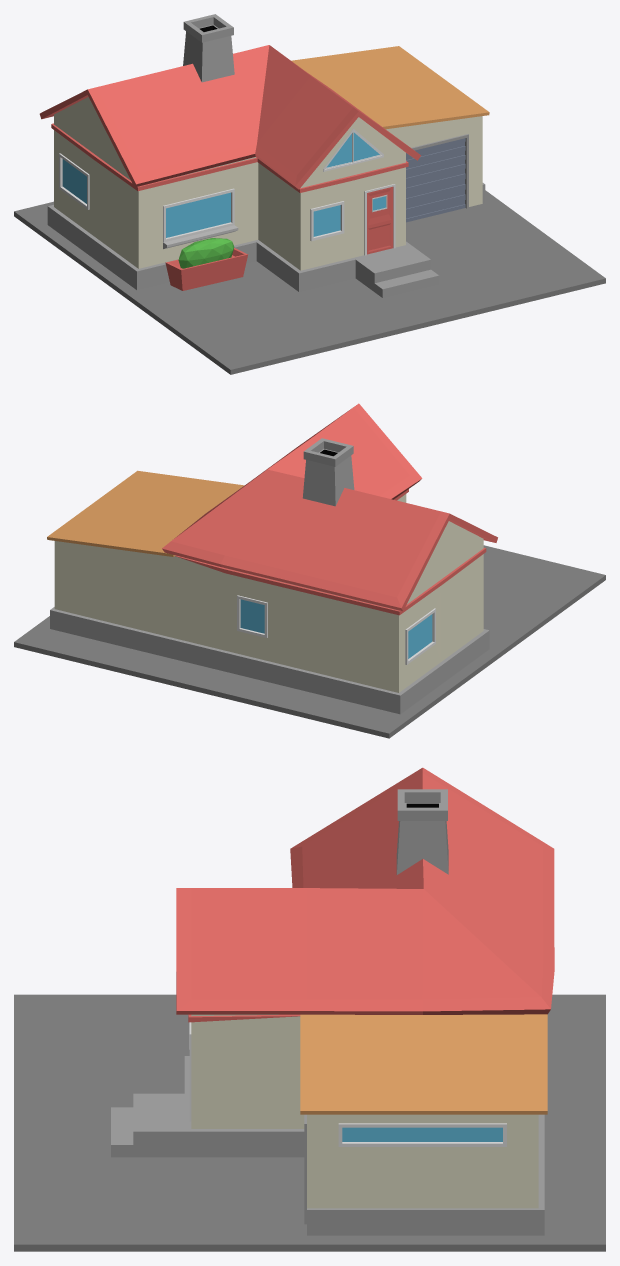
File: RedSuburbanHouse (1).fbx
The picture shows the model from 3 angles, top to bottom: view 1: azimuth 30°, elevation 25°; view 2: azimuth 150°, elevation 25°; view 3: azimuth 270°, elevation 25°; orthographic projection. The views are drawn at different scales.
Visible parts, largest first — view 1: RedHouse; view 2: RedHouse; view 3: RedHouse.
Part boxes in pixels (<box>): RedHouse: <box>14,14,605,374</box>; RedHouse: <box>14,403,605,738</box>; RedHouse: <box>14,767,605,1251</box>.
Bounding box in the file's own units: 700 × 374 × 700.
